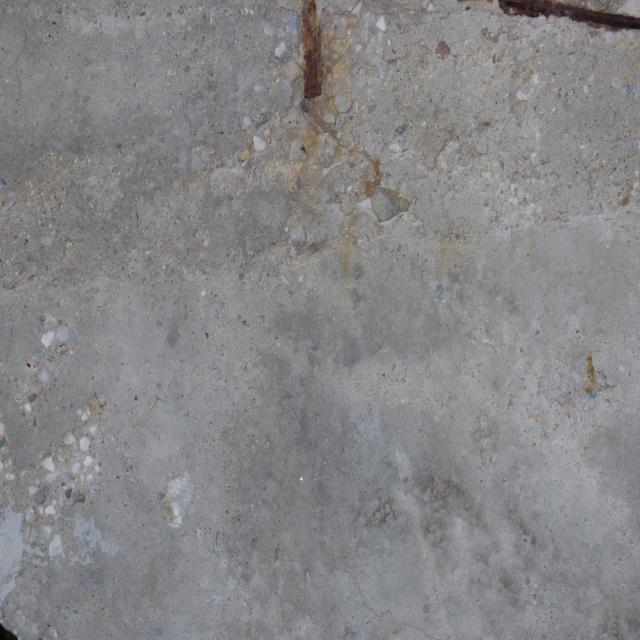corrosion: (263, 0, 408, 259), (460, 0, 640, 53), (575, 329, 606, 421)
